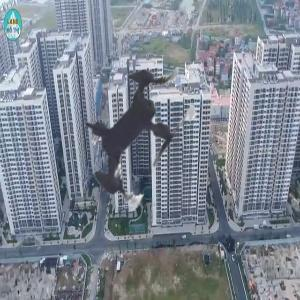drone: (23, 16, 248, 241)
